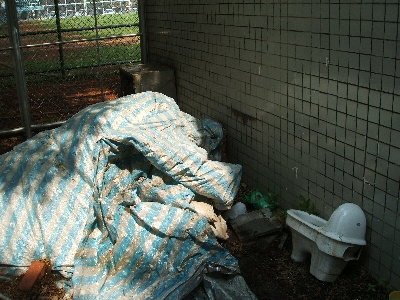plastic_bag: (1, 90, 256, 300), (246, 191, 271, 208)
toilet: (285, 203, 366, 282)
